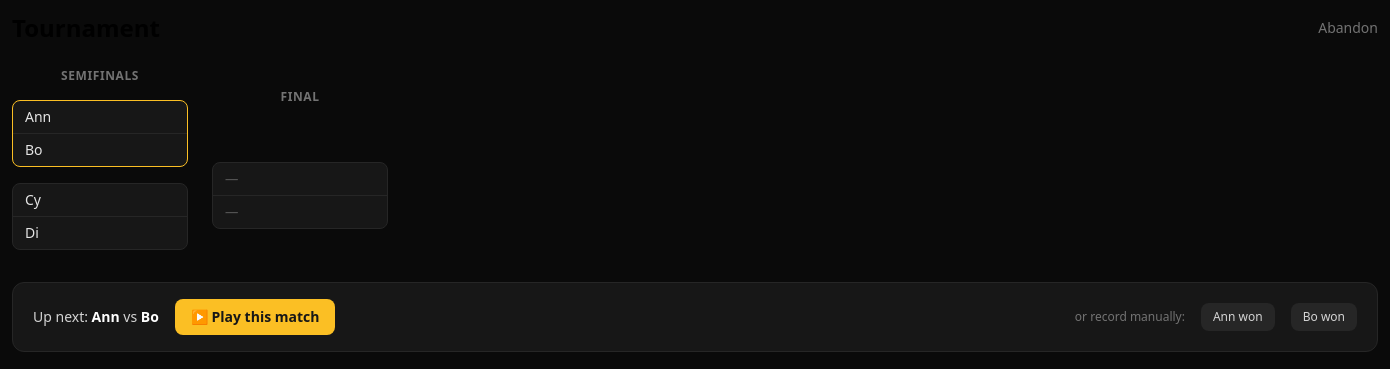
Test: Tournament play › Play this match sends start_game over the bridge
Click the button "▶ Play this match".
click(255, 317)  # box [175,299,336,335]
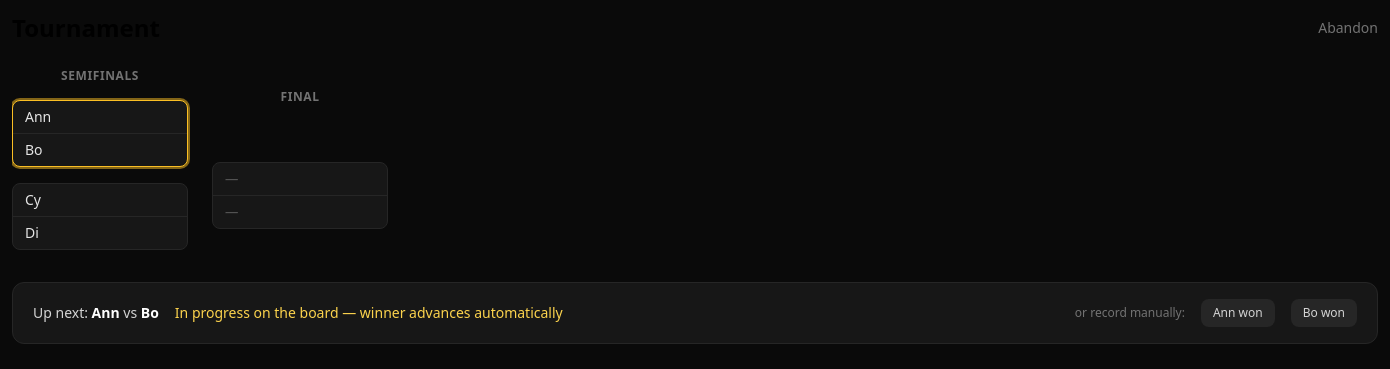
Result: the text "In progress on the board — winner advances automatically" is shown at [175,303,563,323]
